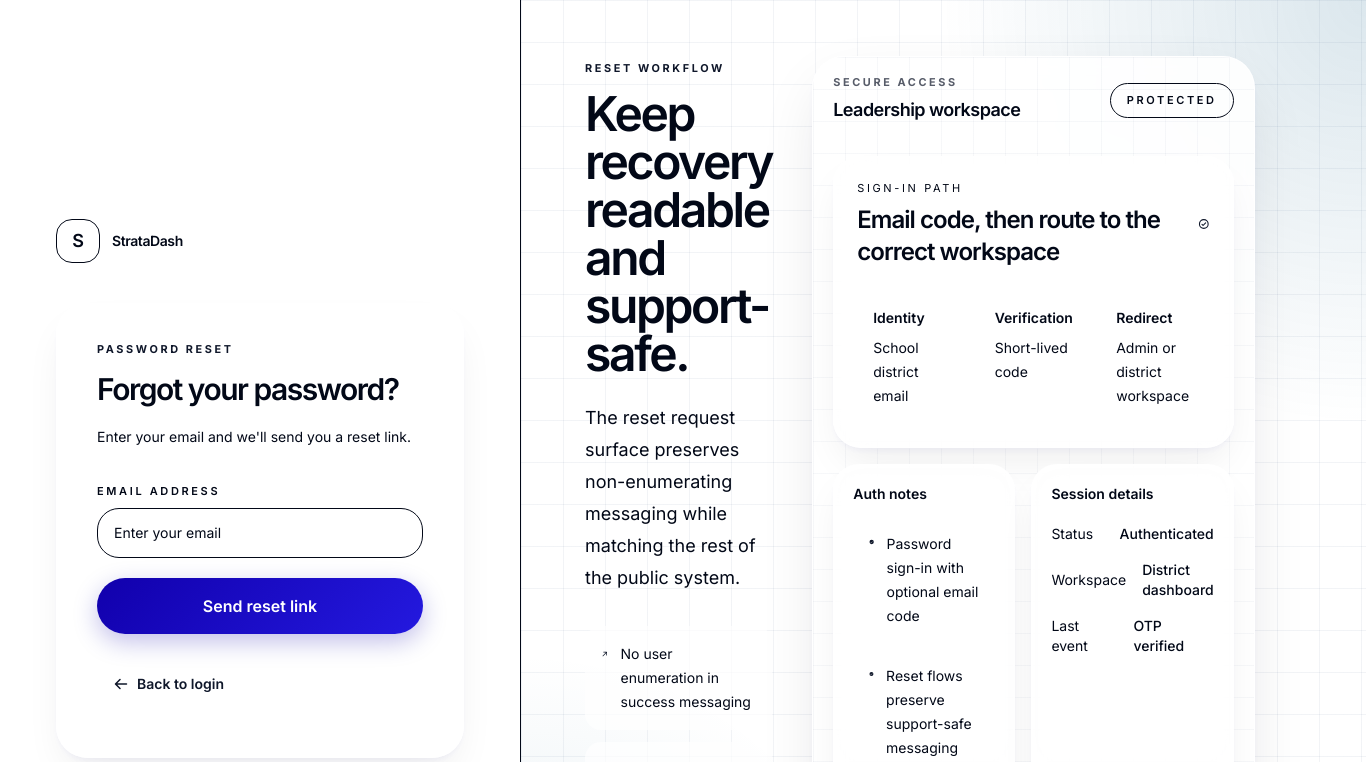
Test: ForgotPassword › shows success message after submission
Type "test@example.com" into the field labelled "Email address". click: (260, 533)
box: left=97, top=508, right=423, bottom=558
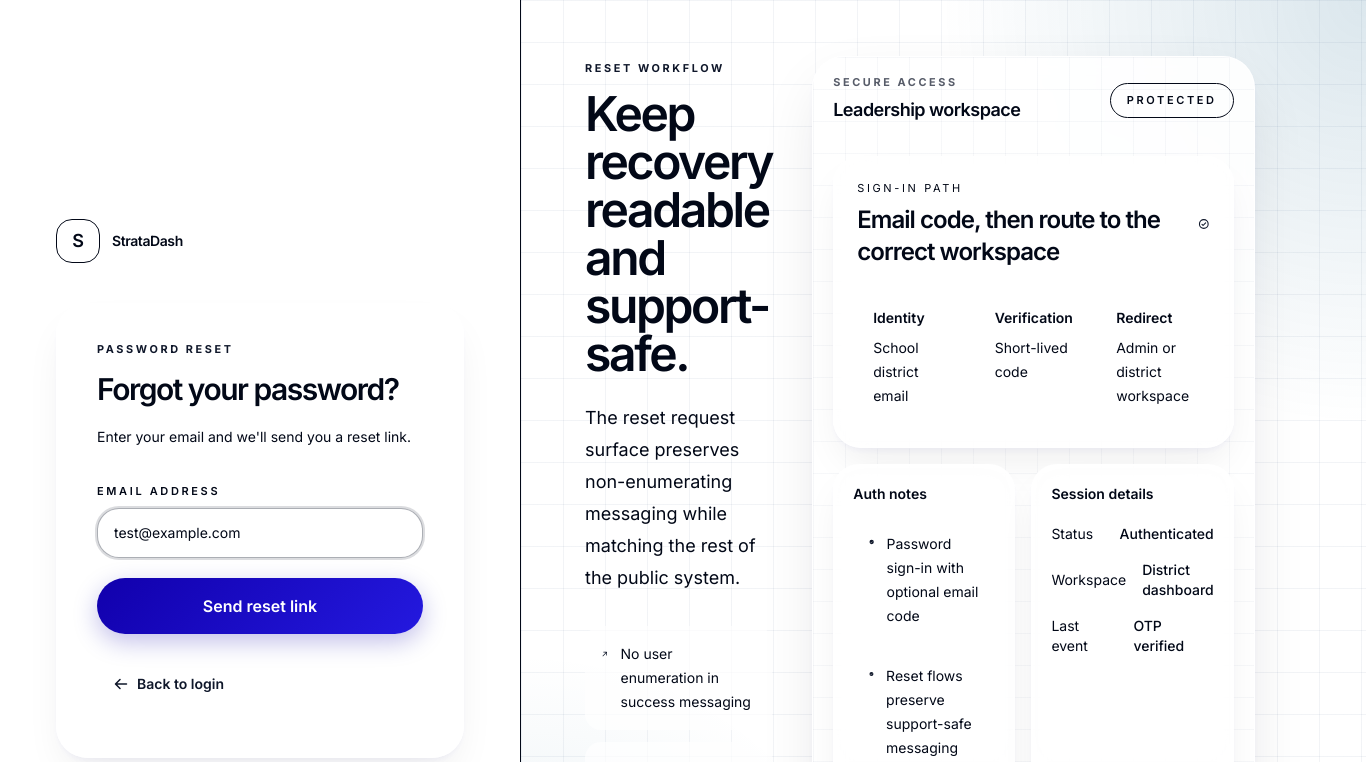
Click the button "Send reset link". click: (260, 606)
box: left=97, top=578, right=423, bottom=634
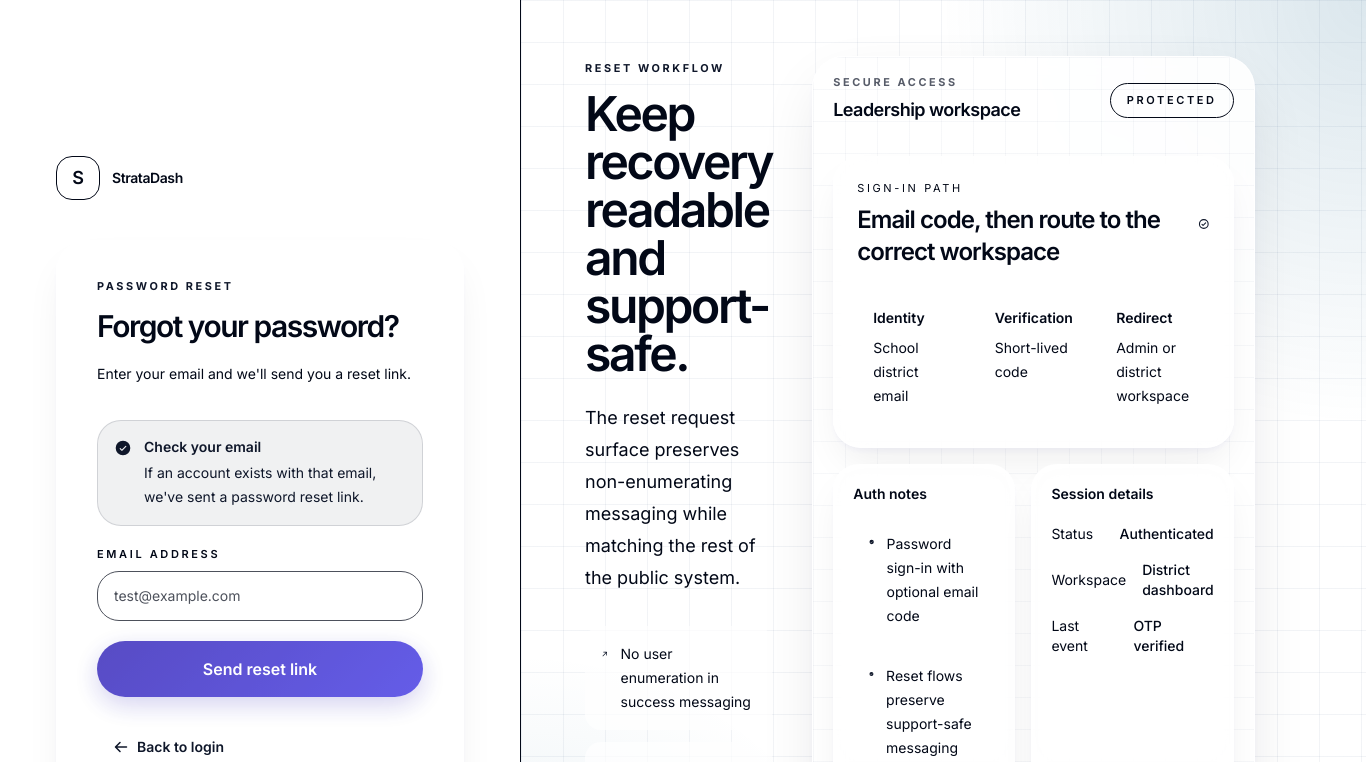
Expected: the text "If an account exists" is shown, left=144, top=464, right=376, bottom=505
